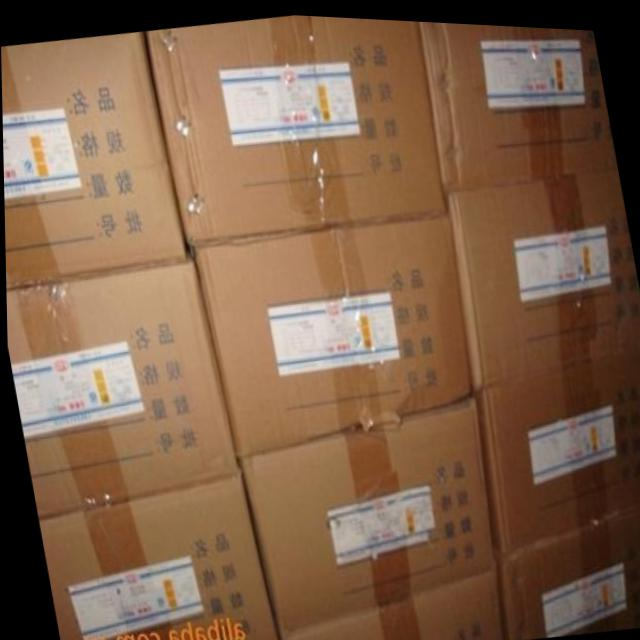box: (147, 12, 448, 247), (190, 207, 472, 457), (240, 391, 493, 633), (5, 260, 238, 517), (1, 35, 189, 292), (447, 166, 640, 387), (39, 472, 275, 640), (472, 347, 640, 553), (420, 17, 618, 182), (493, 501, 640, 633), (277, 564, 501, 640)
